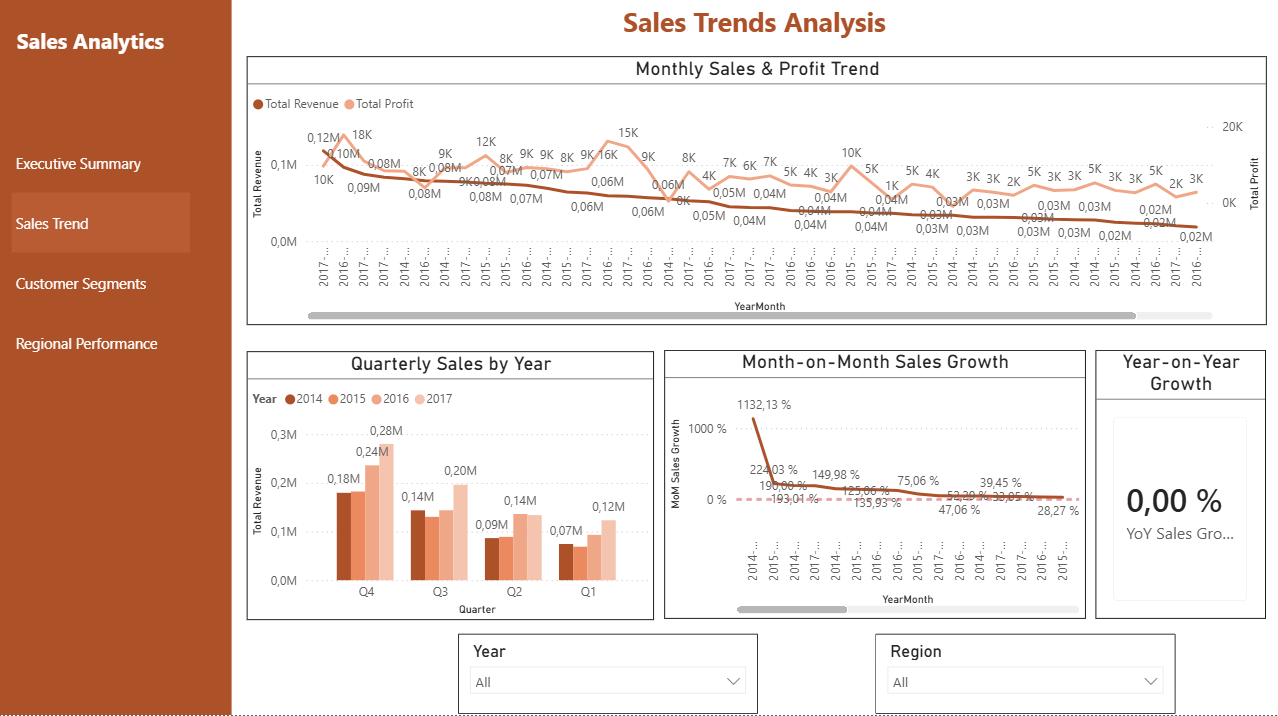

The page's visual inventory and layout, read from the dashboard file:
{"tool":"powerbi","page":{"name":"Sales Trend","canvas":[1280,720],"ordinal":1},"visuals":[{"type":"lineChart","title":"Monthly Sales & Profit Trend","fields":{"Category":["DateTable.YearMonth"],"Y":["Superstore.Total Revenue"],"Y2":["Superstore.Total Profit"]},"box":[248.8,61.2,1020,268.8],"z":0},{"type":"textbox","box":[620,3.8,278.8,46.2],"z":1000},{"type":"clusteredColumnChart","title":"Quarterly Sales by Year","fields":{"Category":["DateTable.Quarter"],"Y":["Superstore.Total Revenue"],"Series":["DateTable.Year"]},"box":[248.8,356.2,407.5,268.8],"z":2000},{"type":"lineChart","title":"Month-on-Month Sales Growth","fields":{"Category":["DateTable.YearMonth"],"Y":["Superstore.MoM Sales Growth"]},"box":[666.2,355,421.2,268.8],"z":3000},{"type":"cardVisual","title":"Year-on-Year Growth","fields":{"Data":["Superstore.YoY Sales Growth"]},"box":[1097.5,355,170,268.8],"z":4000},{"type":"slicer","fields":{"Values":["DateTable.Year"]},"box":[460,638.8,300,80],"z":5000},{"type":"slicer","fields":{"Values":["Superstore.Region"]},"box":[877.5,638.8,300,80],"z":6000},{"type":"shape","box":[0,0,233.8,720],"z":7000},{"type":"textbox","box":[13.8,26.2,202.5,38.8],"z":8000},{"type":"actionButton","box":[13.8,137.5,178.8,60],"z":9000},{"type":"actionButton","box":[13.8,197.5,178.8,60],"z":10000},{"type":"actionButton","box":[13.8,257.5,178.8,60],"z":11000},{"type":"actionButton","box":[13.8,317.5,178.8,60],"z":12000}]}

Visuals, with their boxes on the page's 1280x720 design canvas (x1, y1, x2, y2). These are canvas units, not pixel positions in the 1278x716 screenshot, which may show the page scaled, cropped or inside an application window:
"Monthly Sales & Profit Trend" lineChart: box=[249, 61, 1269, 330]
textbox: box=[620, 4, 899, 50]
"Quarterly Sales by Year" clusteredColumnChart: box=[249, 356, 656, 625]
"Month-on-Month Sales Growth" lineChart: box=[666, 355, 1087, 624]
"Year-on-Year Growth" cardVisual: box=[1098, 355, 1268, 624]
slicer - DateTable.Year: box=[460, 639, 760, 719]
slicer - Superstore.Region: box=[878, 639, 1178, 719]
shape: box=[0, 0, 234, 720]
textbox: box=[14, 26, 216, 65]
actionButton: box=[14, 138, 193, 198]
actionButton: box=[14, 198, 193, 258]
actionButton: box=[14, 258, 193, 318]
actionButton: box=[14, 318, 193, 378]
